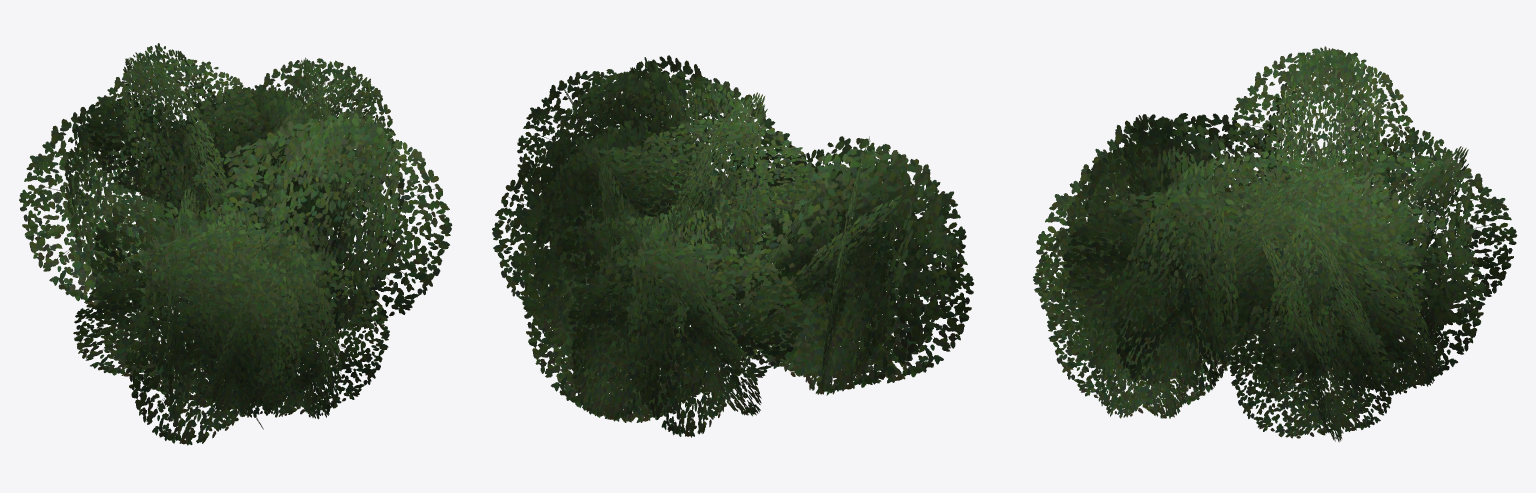
The model's file is shrub_100.glb.
3 views of the same model, side by side, from view 1: azimuth 30°, elevation 25°; view 2: azimuth 150°, elevation 25°; view 3: azimuth 270°, elevation 25° (orthographic). The views are drawn at different scales.
Visible parts, largest first — view 1: shrub_100; view 2: shrub_100; view 3: shrub_100.
Boxes of the visible parts, x1,y1,x2,y2 form: shrub_100: (19, 43, 452, 445); shrub_100: (492, 55, 973, 437); shrub_100: (1033, 46, 1517, 442).
Size of what is drawn, in the model's own units: 1.14 by 0.9639 by 1.27.
1 material, 1 textured.
